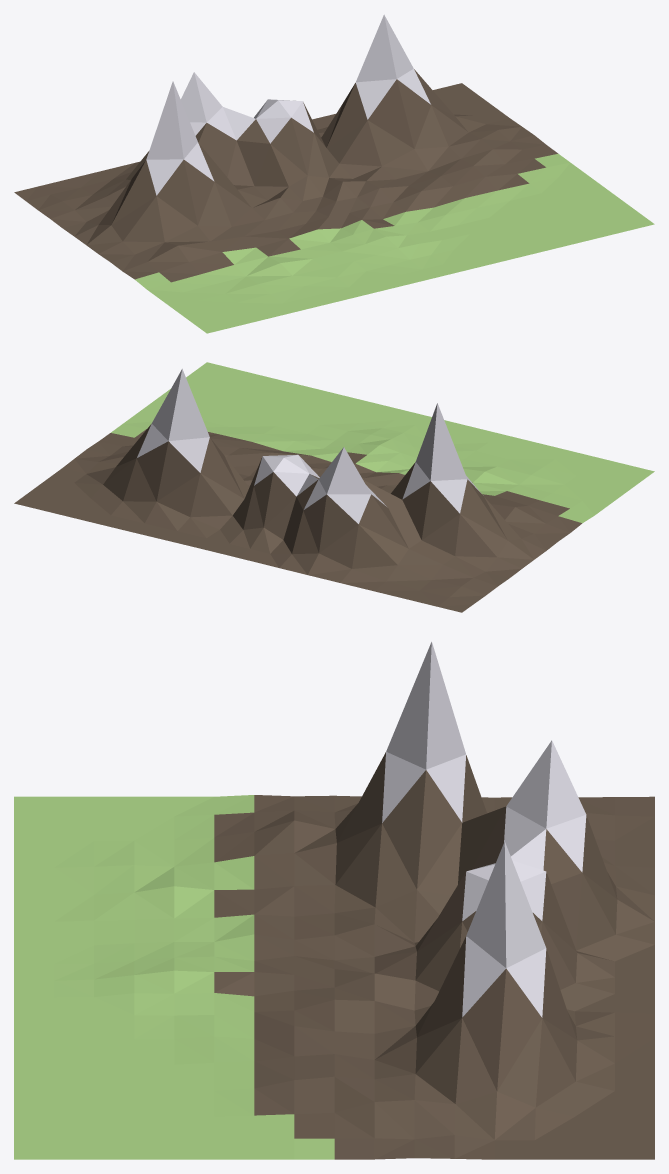
Rendered from mountain.dae.
3 views of the same model, one above another, from view 1: azimuth 30°, elevation 25°; view 2: azimuth 150°, elevation 25°; view 3: azimuth 270°, elevation 25° (orthographic). The views are drawn at different scales.
Visible parts, largest first — view 1: Sahne; view 2: Sahne; view 3: Sahne.
Boxes of the visible parts, <box> form: Sahne: <box>14,14,654,333</box>; Sahne: <box>14,362,654,612</box>; Sahne: <box>14,641,654,1159</box>.
Bounding box in the file's own units: 21.26 × 15.86 × 6.3.
